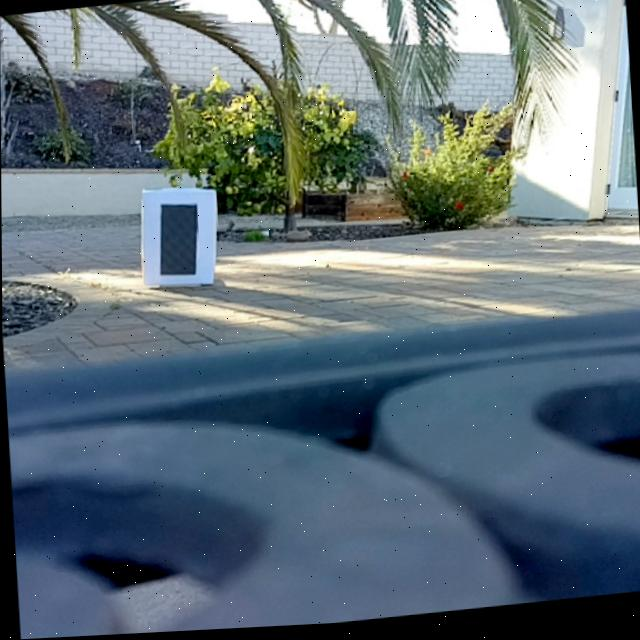led: (157, 202, 202, 282)
